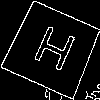H: (26, 24, 78, 81)
